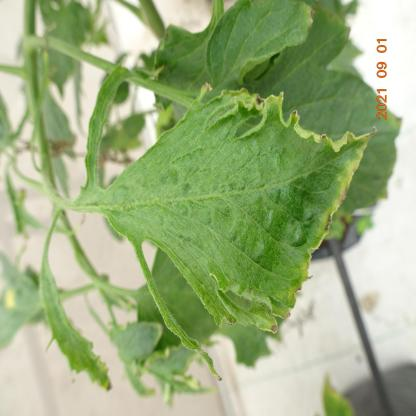T_L_R: (103, 91, 370, 333)
